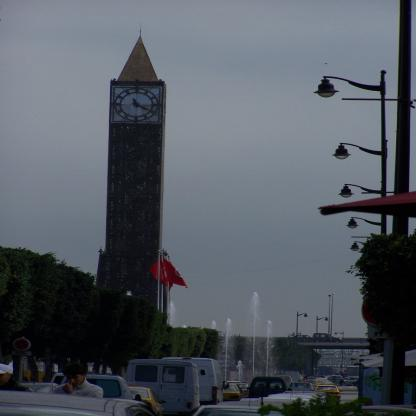Car: (189, 377, 341, 416), (127, 385, 169, 415), (221, 384, 245, 403)
